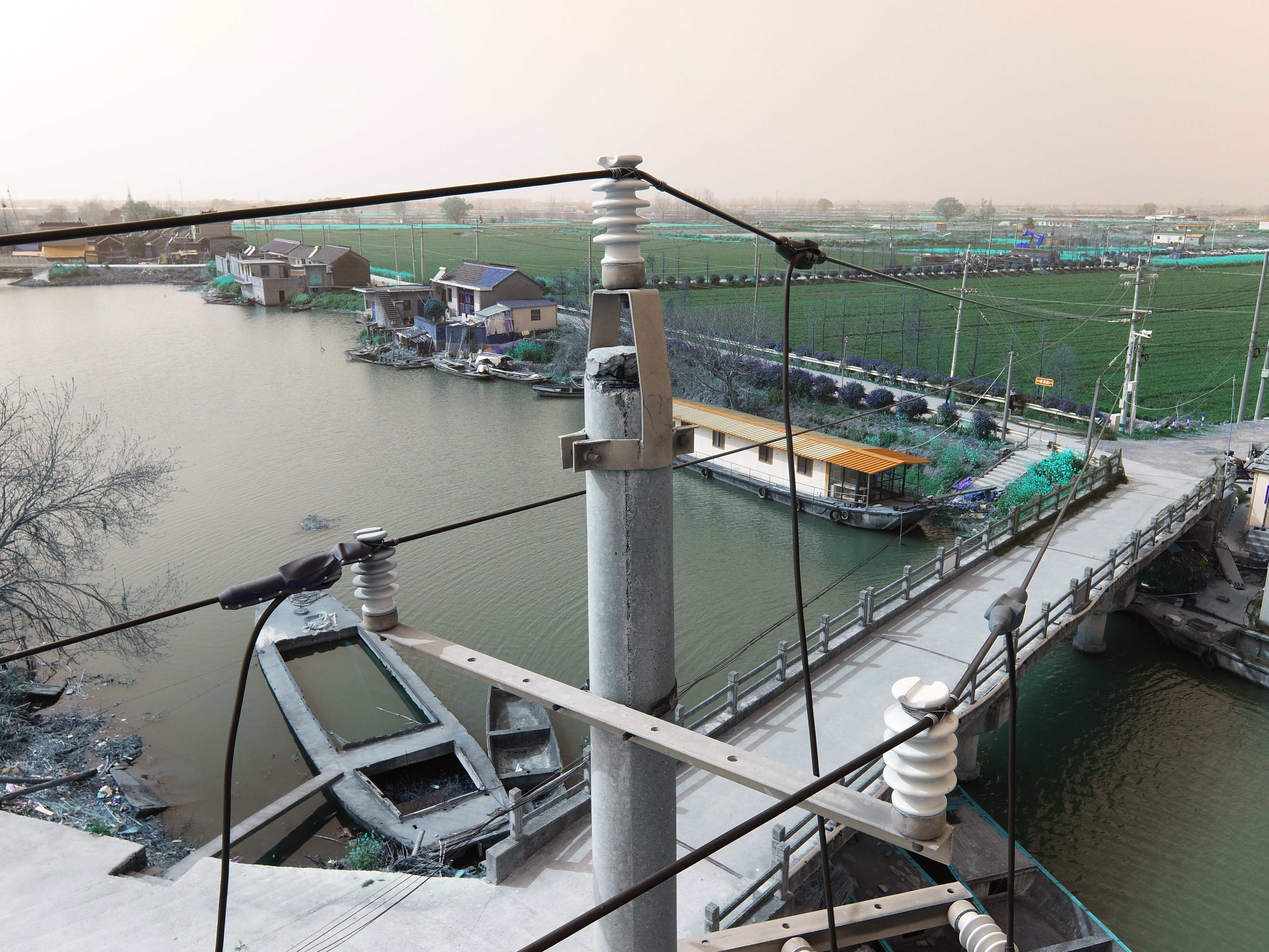severe_soiling_no_discharge_whole: (346, 525, 405, 633)
